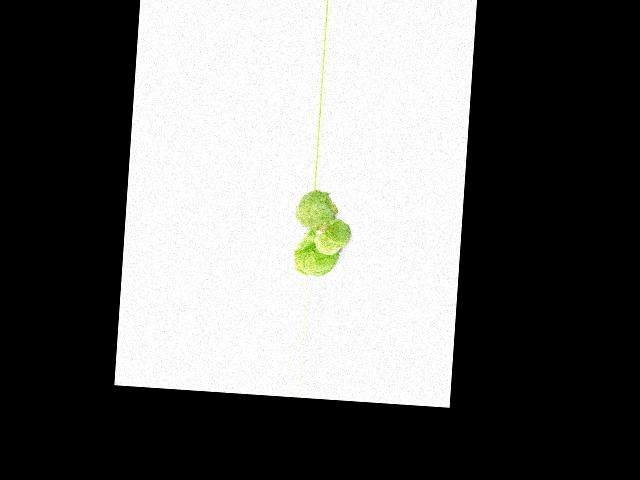lettuce: (295, 236, 337, 275)
